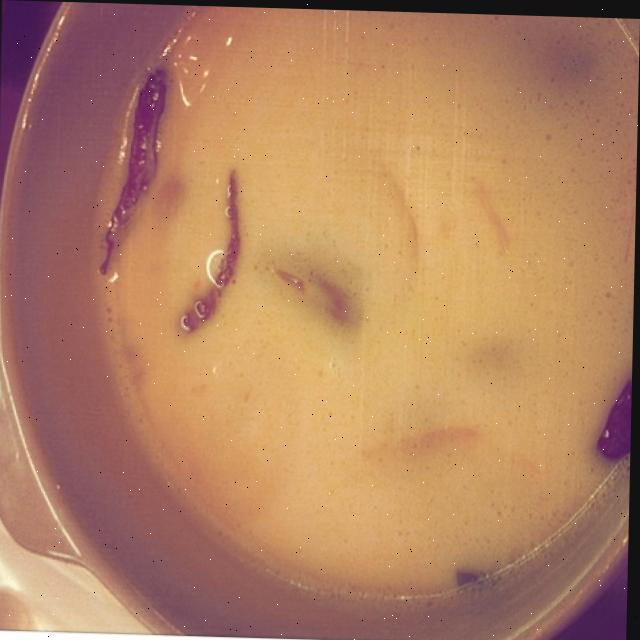汤锅炖物: (33, 1, 640, 622)
